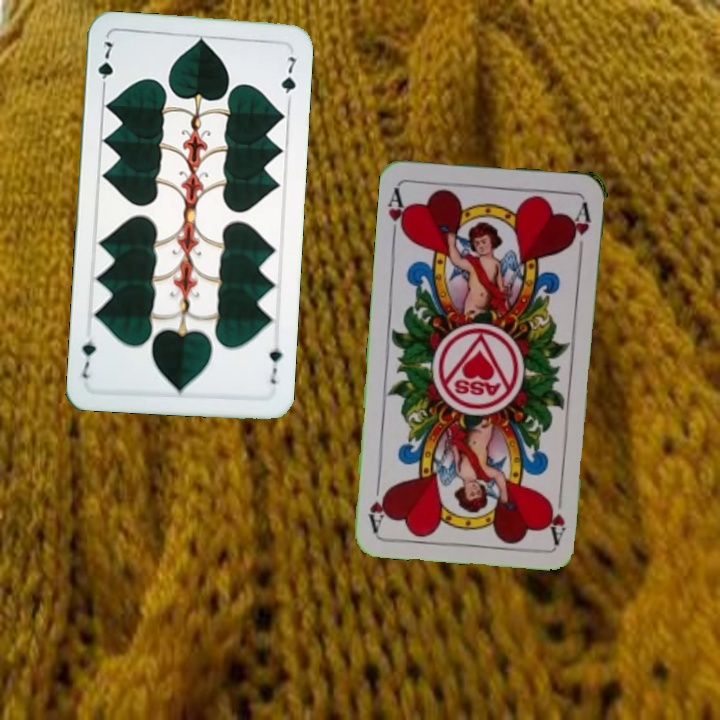G7: (93, 37, 116, 95), (265, 343, 285, 387)
HA: (384, 183, 411, 242), (546, 486, 568, 545)
